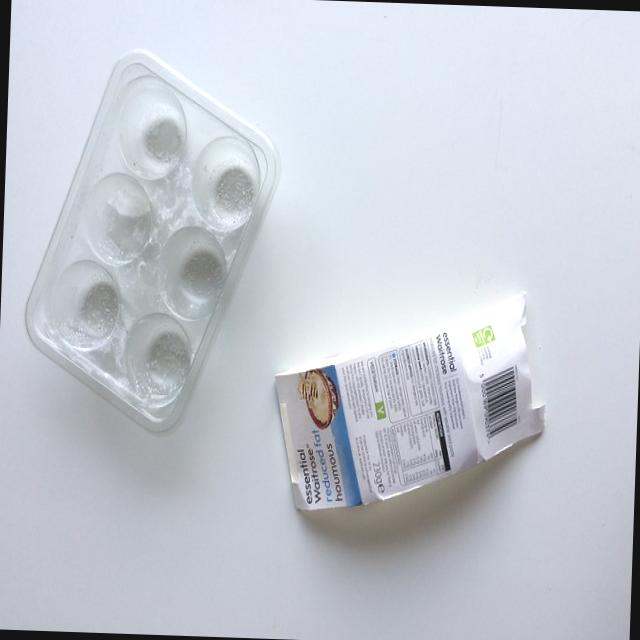Recycle: (18, 44, 286, 439), (272, 282, 551, 518)
